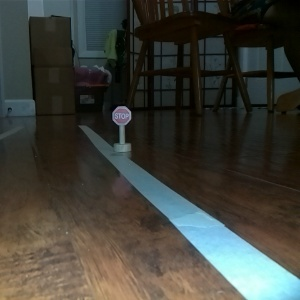stop sign: (110, 103, 132, 154)
